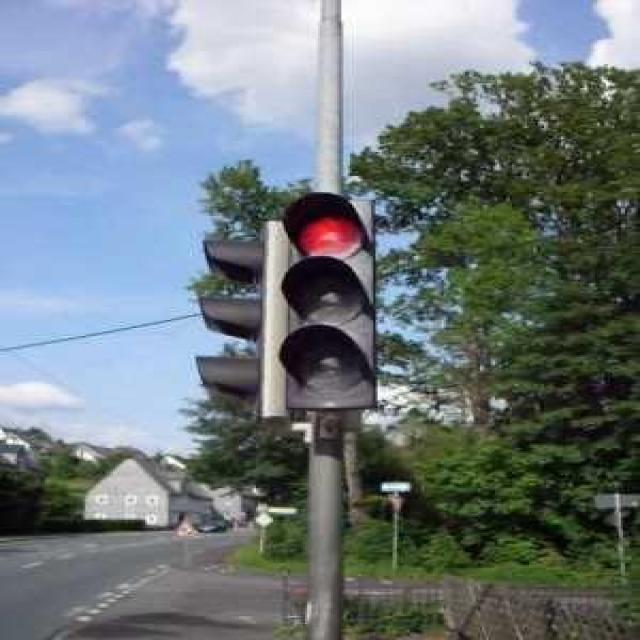Traffic Light -Red-: (273, 182, 376, 414)
